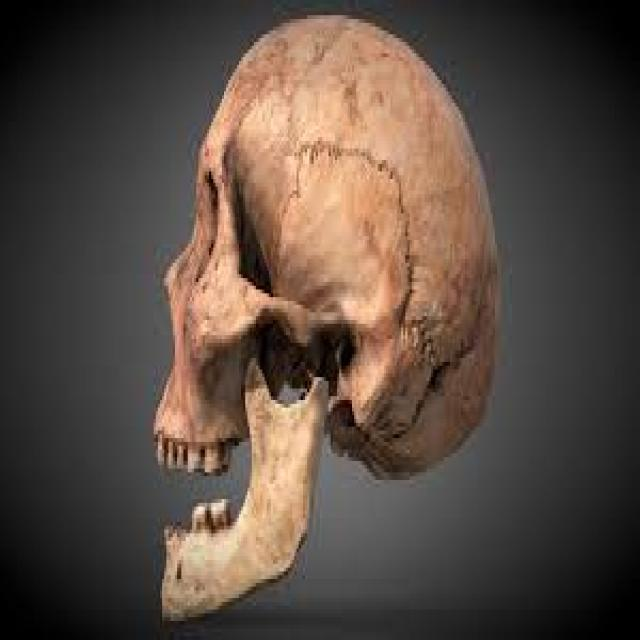skull: (132, 0, 516, 640)
